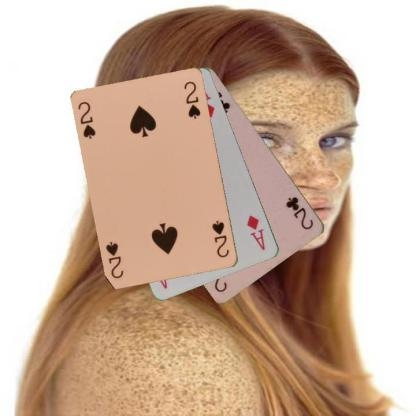2c: (283, 194, 315, 232)
2s: (76, 98, 98, 140), (210, 218, 230, 260)
Ad: (244, 212, 267, 252)
